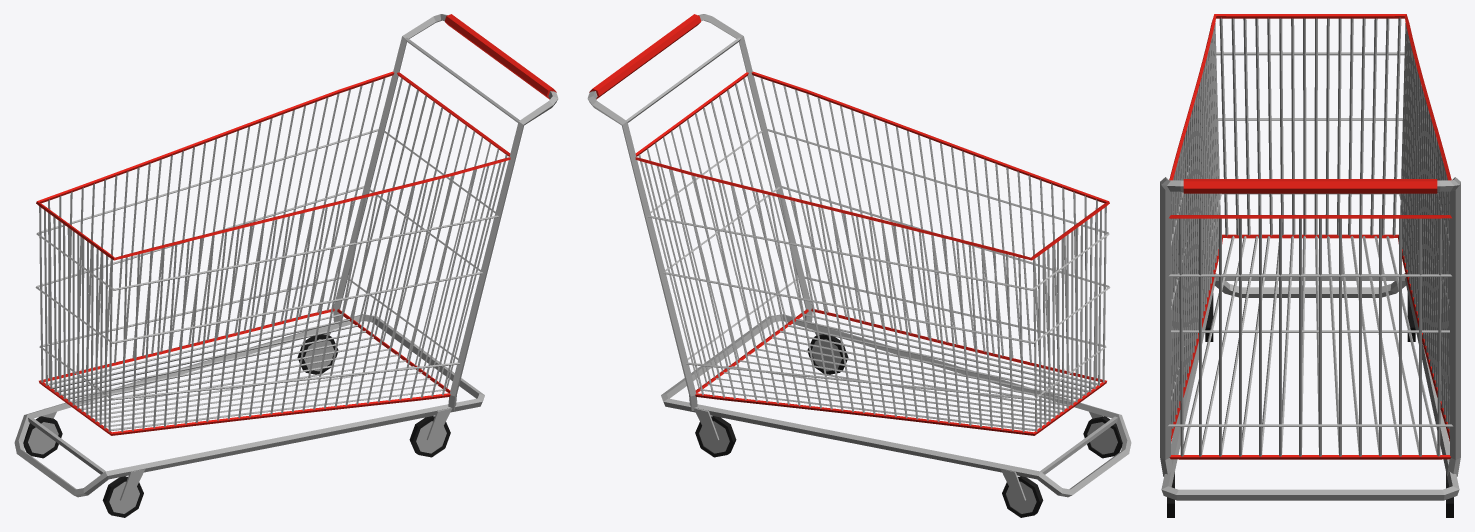
Rendered from store_cart.gltf.
3 views of the same model, side by side, from view 1: azimuth 30°, elevation 25°; view 2: azimuth 150°, elevation 25°; view 3: azimuth 270°, elevation 25° (orthographic). The views are drawn at different scales.
Parts seen in each view (by area): view 1: Plane.014; view 2: Plane.014; view 3: Plane.014.
Part boxes in pixels (<box>): Plane.014: <box>14,14,558,517</box>; Plane.014: <box>587,14,1131,517</box>; Plane.014: <box>1160,14,1460,517</box>.
Size of the model in its own units: 1.76 by 1.21 by 0.7988.
